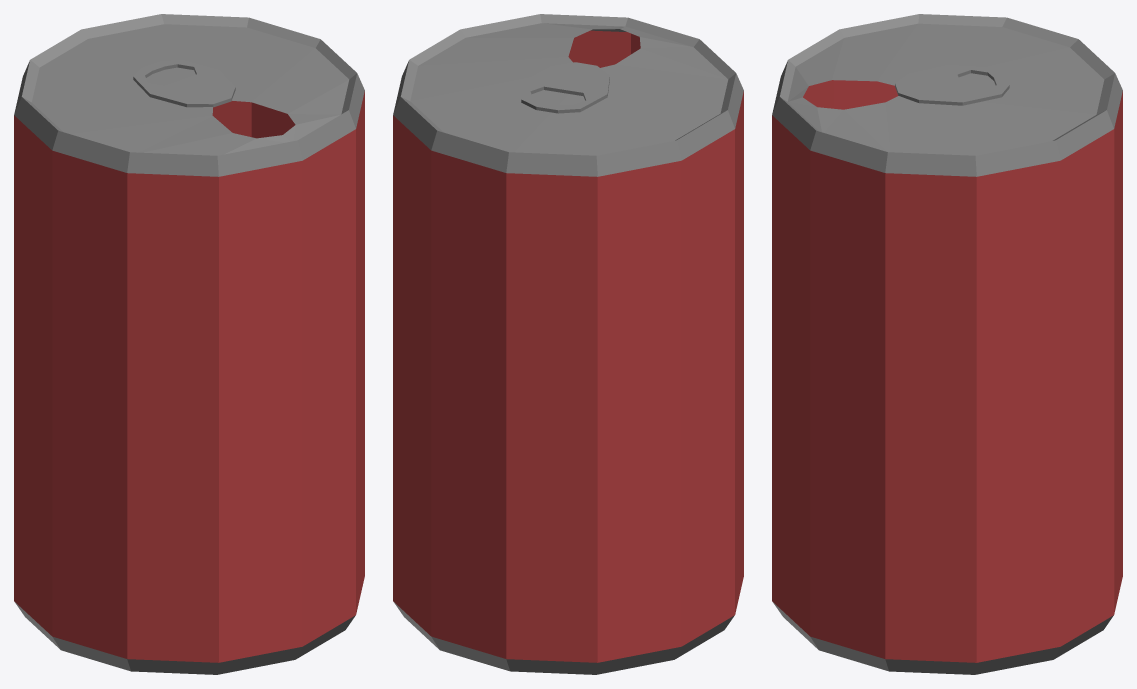
Rendered from Cold Drink Cane.fbx.
The picture shows the model from 3 angles, left to right: view 1: azimuth 30°, elevation 25°; view 2: azimuth 150°, elevation 25°; view 3: azimuth 270°, elevation 25°; orthographic projection.
Visible parts, largest first — view 1: Cold Drink Cane; view 2: Cold Drink Cane; view 3: Cold Drink Cane.
Boxes of the visible parts, left/top/right/bottom form: Cold Drink Cane: left=14, top=14, right=364, bottom=674; Cold Drink Cane: left=393, top=14, right=743, bottom=674; Cold Drink Cane: left=772, top=14, right=1122, bottom=674.
Bounding box in the file's own units: 10.34 × 16.95 × 10.34.
